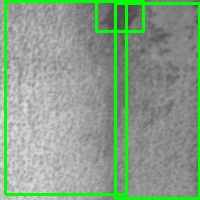patches: (96, 1, 143, 31)
pitted_surface: (5, 1, 126, 194), (115, 3, 199, 198)
